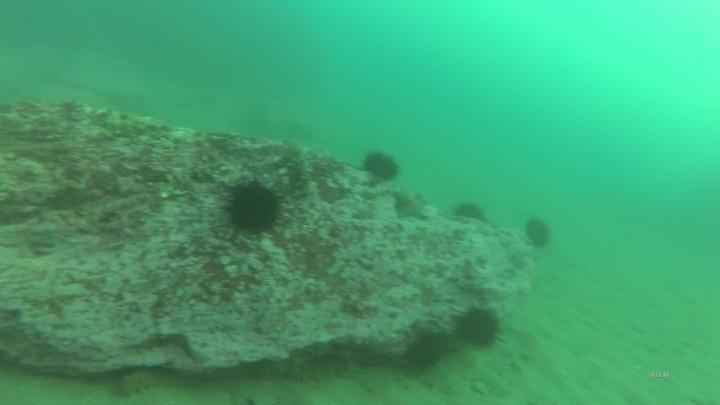echinus: (217, 176, 294, 246), (448, 298, 510, 356), (404, 322, 455, 378), (358, 145, 403, 185), (523, 217, 554, 253), (453, 198, 490, 226)
holothurian: (118, 366, 202, 400), (272, 354, 356, 385), (281, 147, 321, 196)
starfish: (392, 190, 434, 223)
